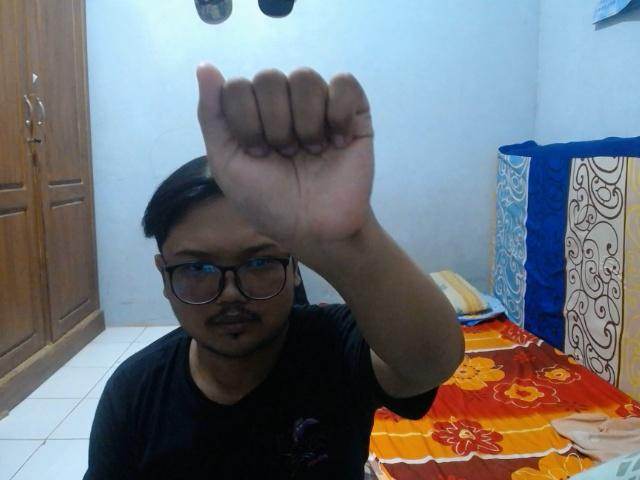Grab: (192, 56, 382, 254)
